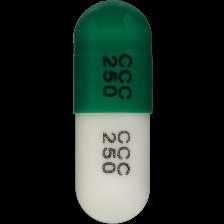61442-161: (0, 0, 224, 224)
